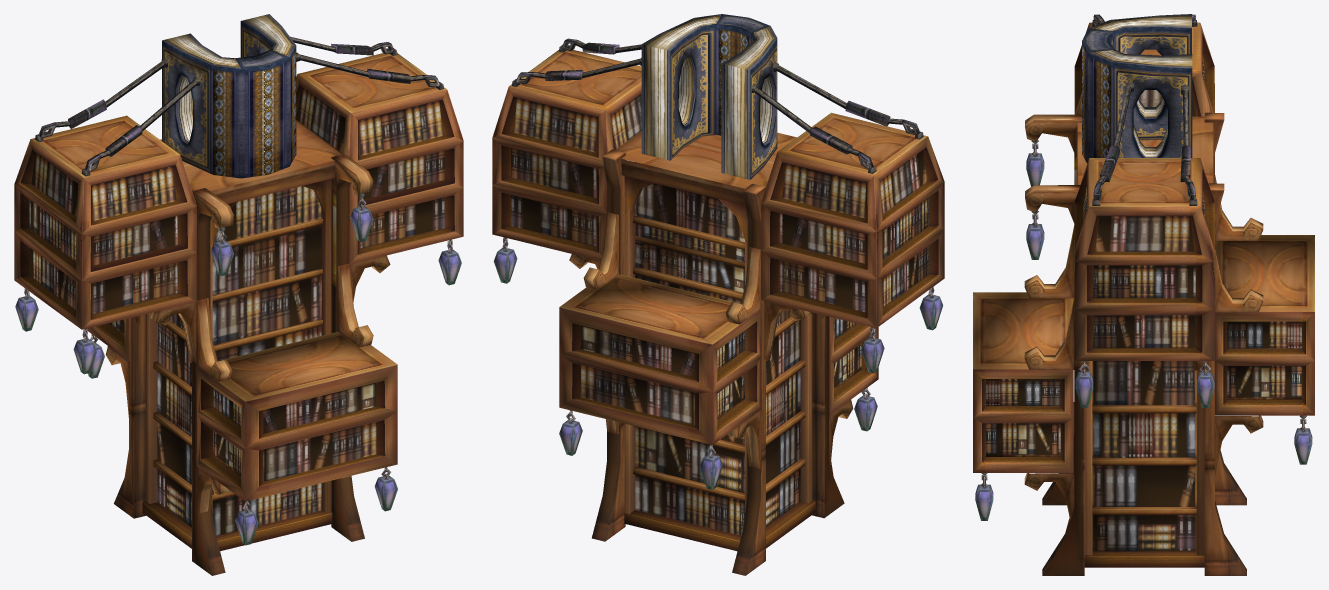
File: a_bookcase04.glb
The picture shows the model from 3 angles, left to right: view 1: azimuth 30°, elevation 25°; view 2: azimuth 150°, elevation 25°; view 3: azimuth 270°, elevation 25°; orthographic projection. The views are drawn at different scales.
Parts seen in each view (by area): view 1: a_bookcase04; view 2: a_bookcase04; view 3: a_bookcase04.
Boxes of the visible parts, left/top/right/bottom form: a_bookcase04: left=14, top=14, right=463, bottom=575; a_bookcase04: left=492, top=14, right=944, bottom=575; a_bookcase04: left=973, top=14, right=1314, bottom=575.
Bounding box in the file's own units: 4.04 × 4.83 × 3.02.
Materials: 4 (4 with a texture image).
